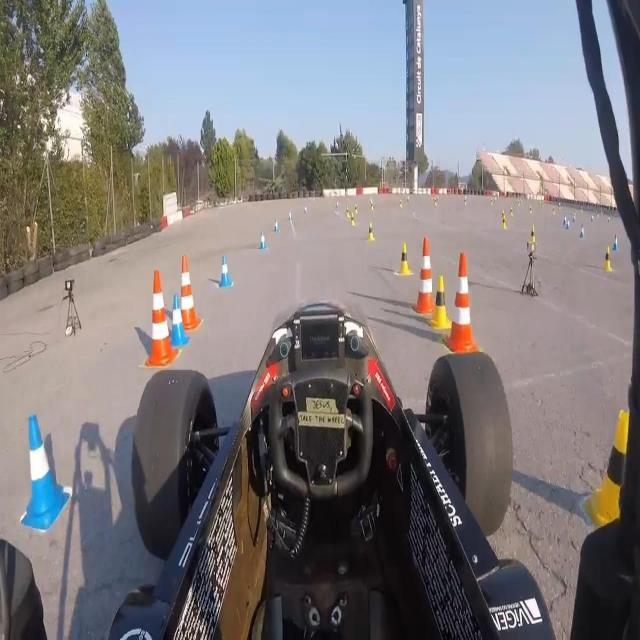blue_cone: (14, 414, 70, 538), (166, 294, 188, 348), (218, 254, 231, 287), (258, 230, 268, 252), (612, 233, 620, 251), (579, 221, 586, 241), (274, 216, 280, 234), (288, 210, 292, 221)
large_orange_cone: (141, 272, 179, 367), (444, 253, 478, 353), (414, 238, 437, 318), (181, 257, 201, 330)
yellow_cone: (582, 410, 630, 527), (431, 278, 452, 330), (397, 240, 412, 278), (602, 244, 612, 273), (366, 222, 374, 244), (529, 223, 537, 244), (502, 215, 507, 232), (350, 212, 355, 226), (346, 206, 350, 220)
